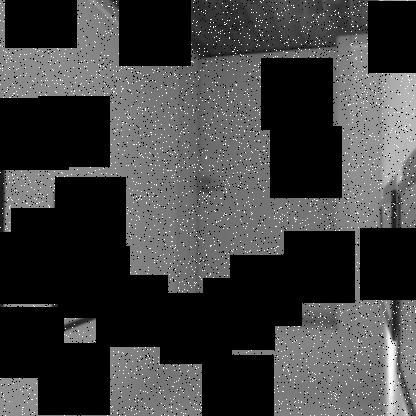Porte: (171, 33, 353, 342)
